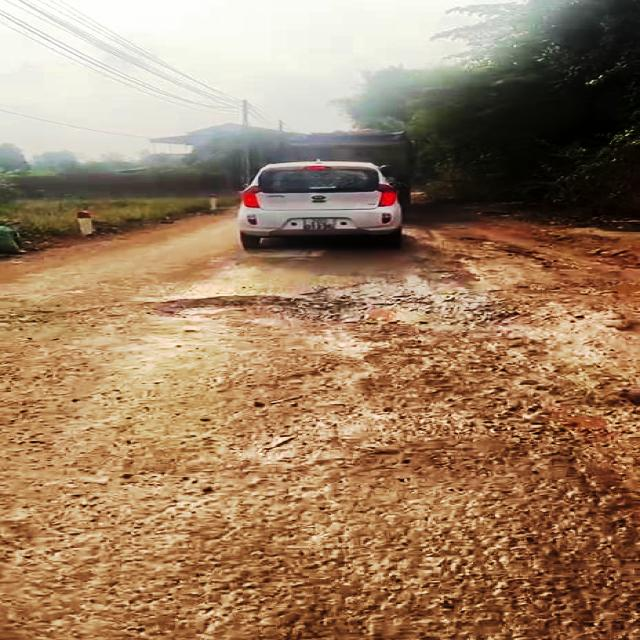pothole: (305, 291, 501, 329), (120, 291, 308, 326)
